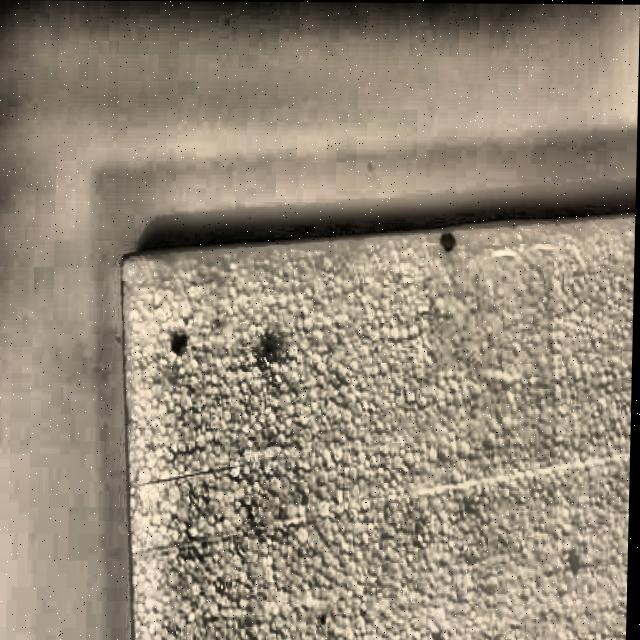plastic: (112, 211, 633, 640)
